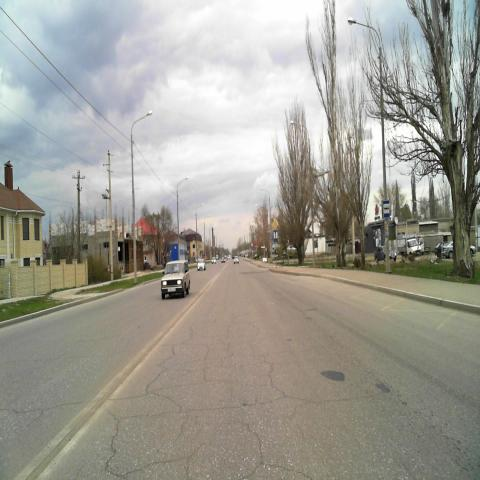2_1: (271, 218, 278, 230)
5_16: (382, 200, 390, 218)
7_4: (272, 230, 278, 242)
